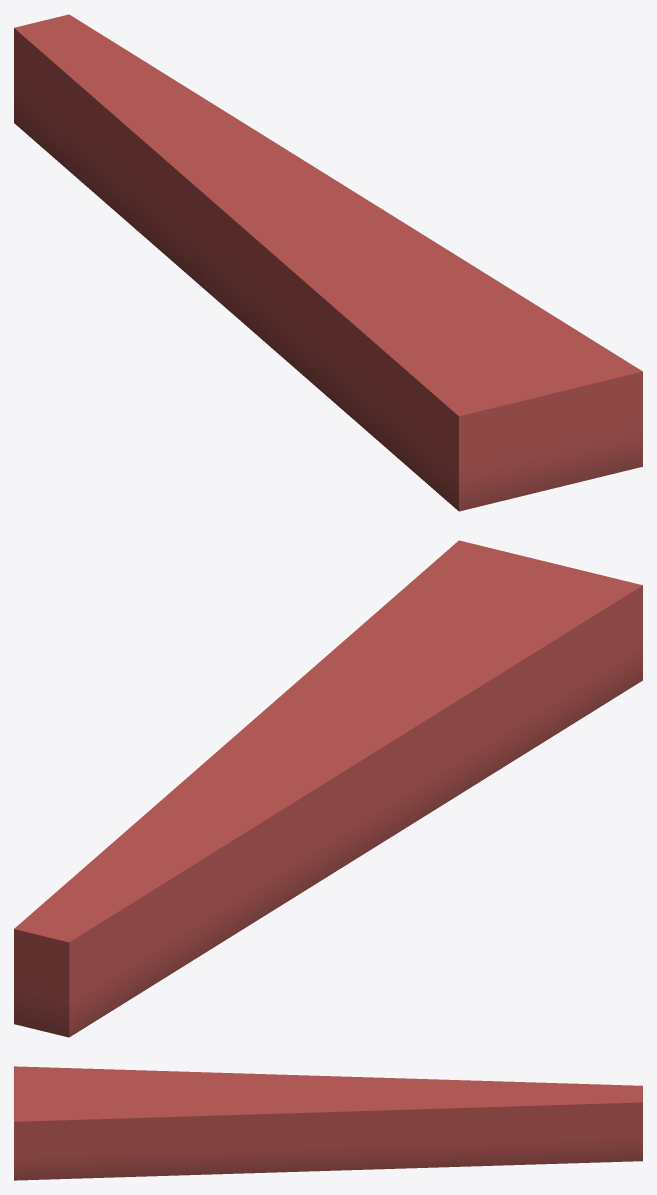
File: PlatTri01.023.glb
3 renders of one model, top to bottom at view 1: azimuth 30°, elevation 25°; view 2: azimuth 150°, elevation 25°; view 3: azimuth 270°, elevation 25°, orthographic. The views are drawn at different scales.
Visible parts, largest first — view 1: PlatTri01.023; view 2: PlatTri01.023; view 3: PlatTri01.023.
Boxes of the visible parts, box(x1,y1,x2,y2) form: PlatTri01.023: box(14, 14, 642, 511); PlatTri01.023: box(14, 540, 642, 1037); PlatTri01.023: box(14, 1066, 642, 1180).
Size of what is drawn, in the model's own units: 2.33 by 1.15 by 11.18.
1 material, 1 textured.
